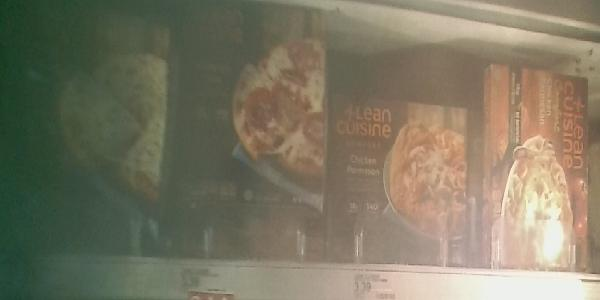pizza1: (167, 5, 328, 264), (5, 4, 166, 258), (331, 91, 475, 274), (484, 63, 600, 275)
